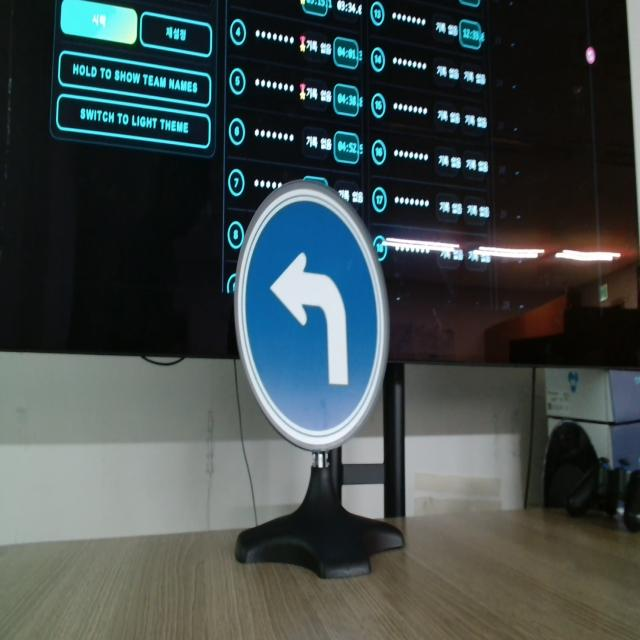left_direction: (226, 166, 406, 479)
